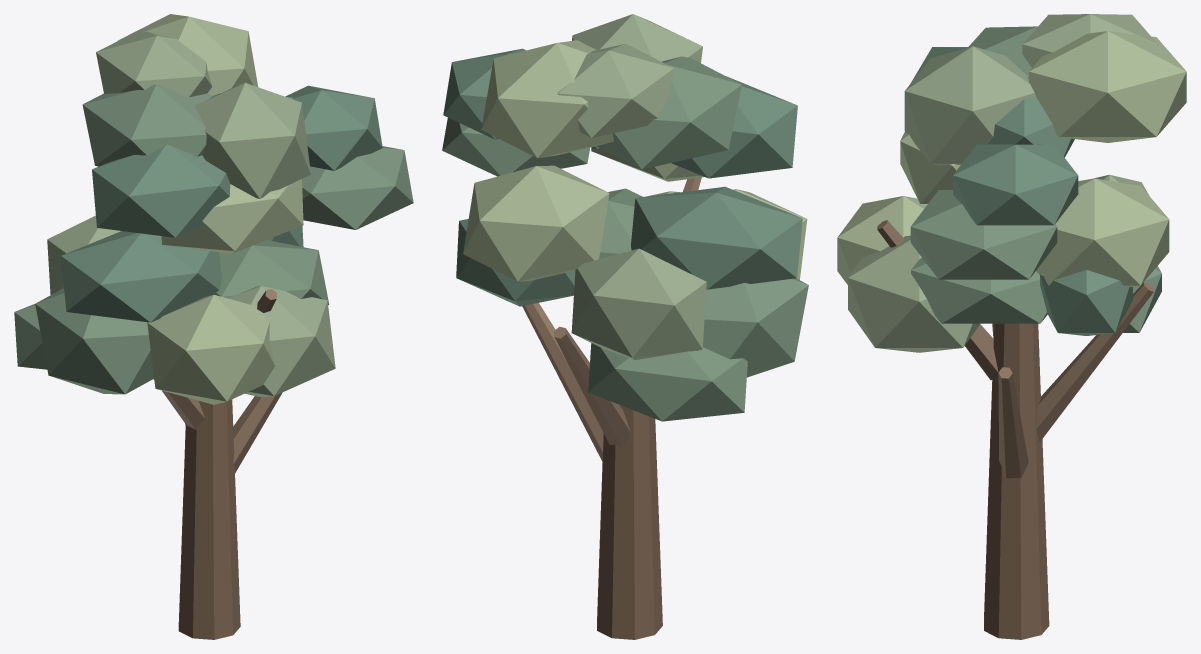
Rendered from OutdoorOliveTree_C.fbx.
3 views of the same model, side by side, from view 1: azimuth 30°, elevation 25°; view 2: azimuth 150°, elevation 25°; view 3: azimuth 270°, elevation 25° (orthographic). The views are drawn at different scales.
Visible parts, largest first — view 1: OutdoorOliveTree_C; view 2: OutdoorOliveTree_C; view 3: OutdoorOliveTree_C.
Part boxes in pixels (x1,y1,x2,y2): OutdoorOliveTree_C: (14,14,413,639); OutdoorOliveTree_C: (442,14,808,639); OutdoorOliveTree_C: (837,14,1186,639).
Bounding box in the file's own units: 270 × 436 × 228.
